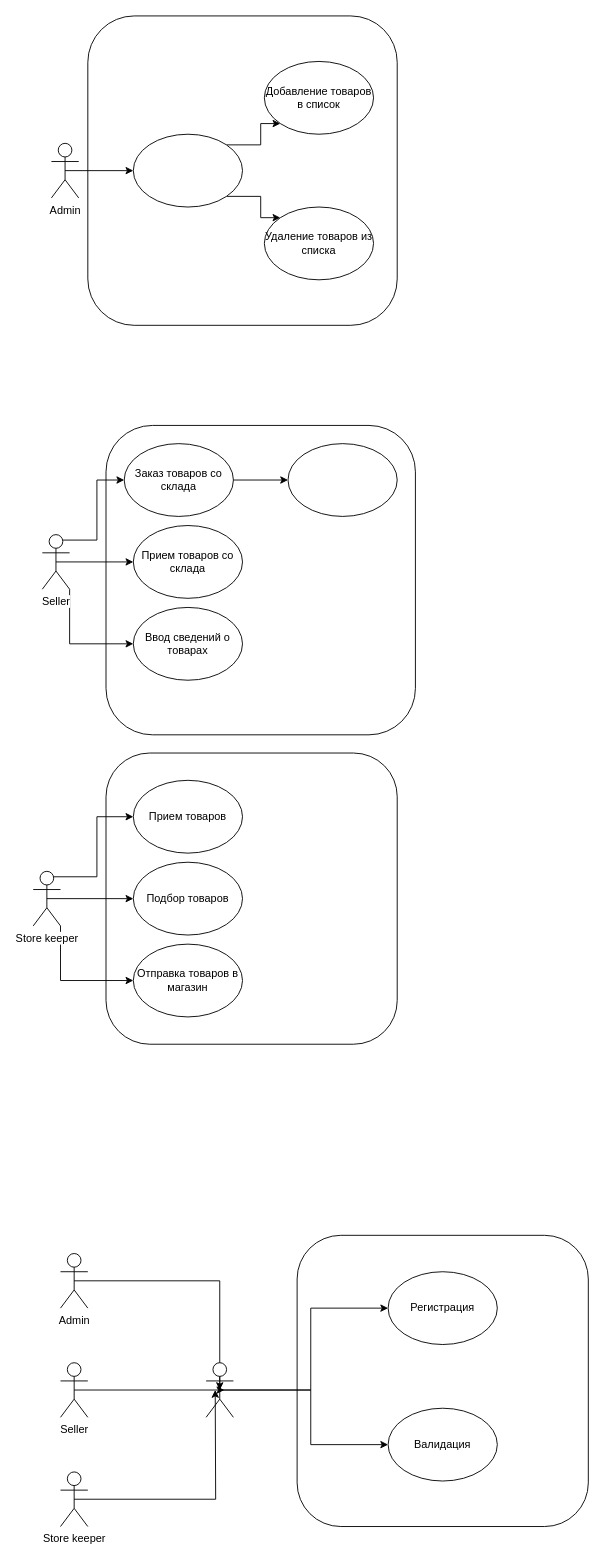
The diagram is 604 pixels wide and 1562 high, and some of its shapes have lost their labels. The shapes that lost their labels are listed below. From the top down, each one's box as (x1, y1, x2, y2) in pixels, then its label:
(132, 133, 243, 207): Составление списка товаров
(287, 443, 397, 516): Составляется накладная
(205, 1362, 233, 1417): User
